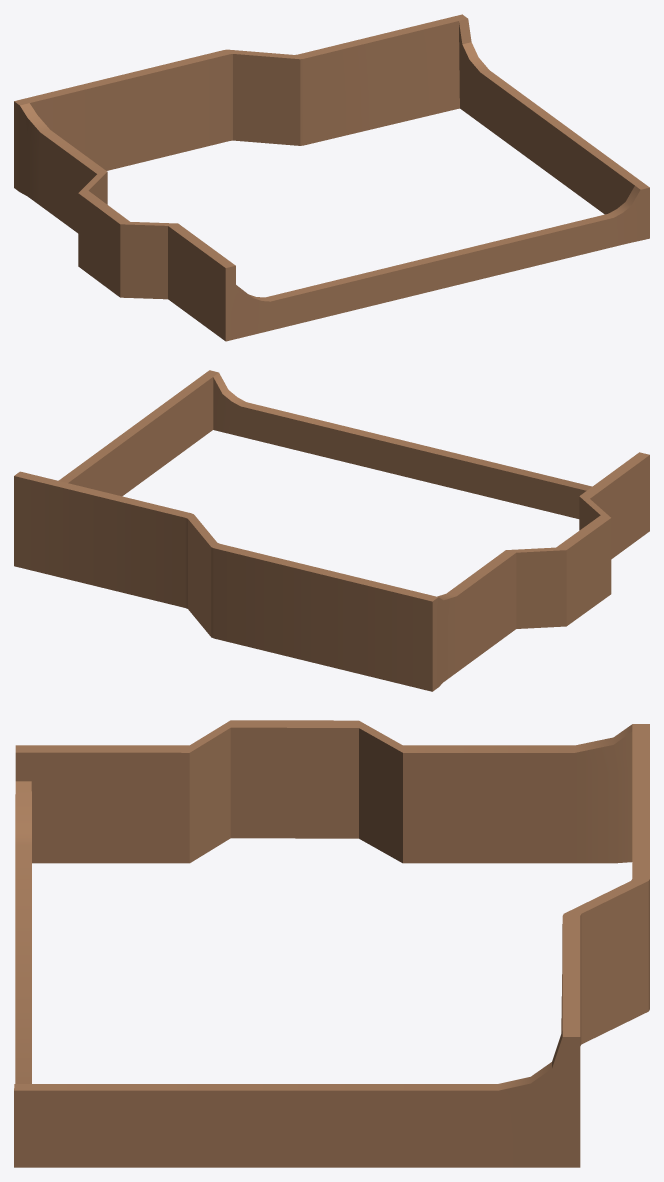
File: Witchhouse.walls.fbx
3 renders of one model, top to bottom at view 1: azimuth 30°, elevation 25°; view 2: azimuth 150°, elevation 25°; view 3: azimuth 270°, elevation 25°, orthographic. The views are drawn at different scales.
Parts seen in each view (by area): view 1: Walls; view 2: Walls; view 3: Walls.
Part boxes in pixels (x1,y1,x2,y2): Walls: [14, 14, 649, 341]; Walls: [14, 370, 649, 691]; Walls: [14, 720, 649, 1167].
Bounding box in the file's own units: 23.68 × 4.29 × 18.89.
